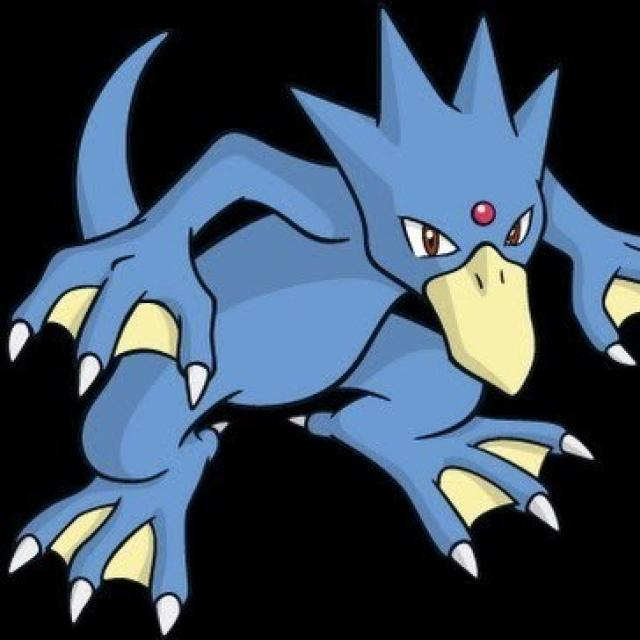Golduck: (19, 8, 640, 631)
